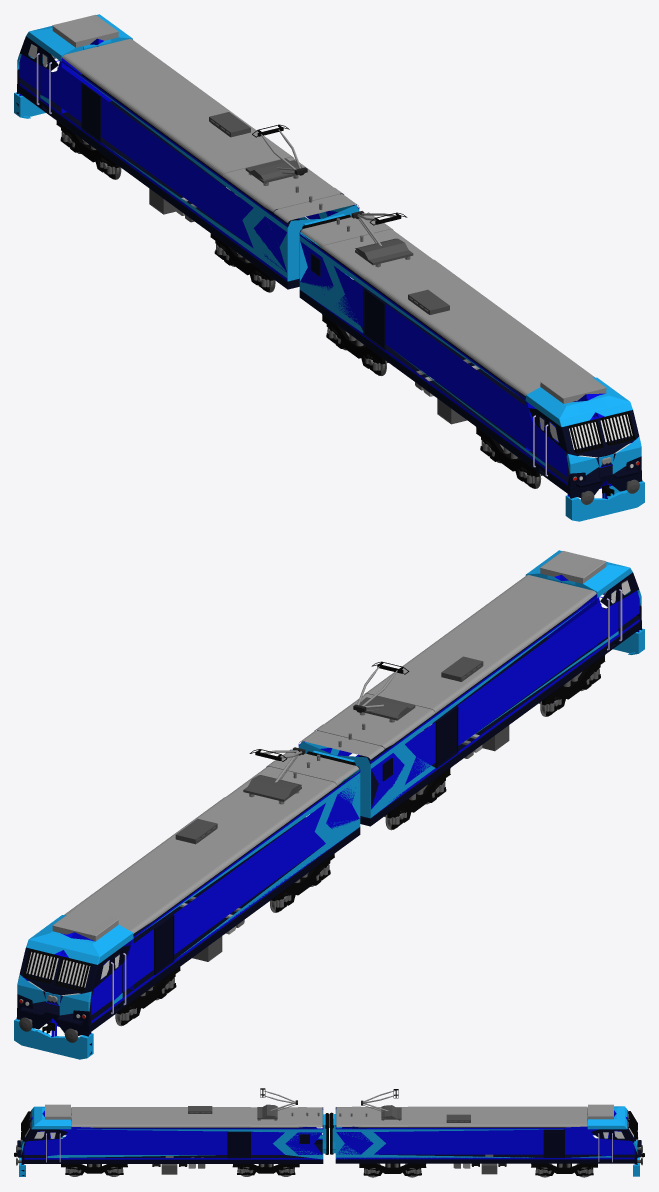
Rendered from wag12.glb.
3 views of the same model, one above another, from view 1: azimuth 30°, elevation 25°; view 2: azimuth 150°, elevation 25°; view 3: azimuth 270°, elevation 25° (orthographic). The views are drawn at different scales.
Parts seen in each view (by area): view 1: Body_40, Body.001_39, Cube.011_55, Cube.002_46, Cube.001_76, Cube_70, Cube.025_38, Cube.024_37, Cube.023_36; view 2: Body.001_39, Body_40, Cube.014_27, Cube.023_36, Cube_70, Cube.001_76, Cube.025_38, Cube.024_37, Cube.002_46; view 3: Body.001_39, Body_40, Cube.024_37, Cube.025_38, Cube.001_76, Cube_70, Cube.002_46, Cube.023_36, Cube.020_33, Cube.015_28, Cube.005_49, Cube.010_54 (+3 smaller).
Part boxes in pixels (x1,y1,x2,y2): Body_40: [299, 212, 644, 521]; Body.001_39: [14, 14, 359, 289]; Cube.011_55: [568, 411, 635, 453]; Cube.002_46: [355, 238, 413, 265]; Cube.001_76: [322, 314, 385, 375]; Cube_70: [476, 427, 539, 488]; Cube.025_38: [56, 121, 119, 179]; Cube.024_37: [210, 233, 273, 291]; Cube.023_36: [245, 158, 302, 183]; Body.001_39: [14, 749, 360, 1059]; Body_40: [298, 550, 644, 826]; Cube.014_27: [23, 949, 90, 991]; Cube.023_36: [243, 775, 301, 801]; Cube_70: [541, 655, 605, 716]; Cube.001_76: [387, 768, 450, 829]; Cube.025_38: [117, 967, 180, 1025]; Cube.024_37: [271, 854, 334, 912]; Cube.002_46: [359, 696, 415, 720]; Body.001_39: [332, 1104, 641, 1176]; Body_40: [17, 1104, 326, 1176]; Cube.024_37: [359, 1163, 426, 1175]; Cube.025_38: [531, 1163, 597, 1175]; Cube.001_76: [232, 1164, 299, 1175]; Cube_70: [61, 1164, 127, 1175]; Cube.002_46: [257, 1104, 277, 1119]; Cube.023_36: [381, 1105, 401, 1119]; Cube.020_33: [481, 1154, 497, 1174]; Cube.015_28: [446, 1114, 470, 1122]; Cube.005_49: [161, 1156, 177, 1174]; Cube.010_54: [188, 1106, 212, 1113].
Bounding box in the file's own units: 2.54 × 4.43 × 32.12.
